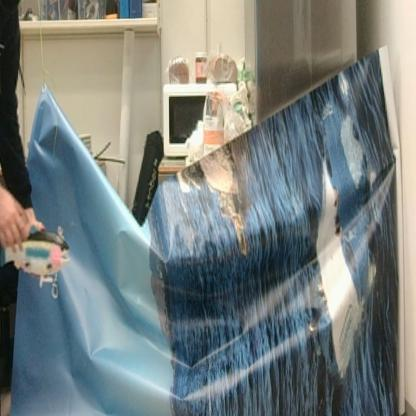rubberfish: (0, 224, 73, 283)
